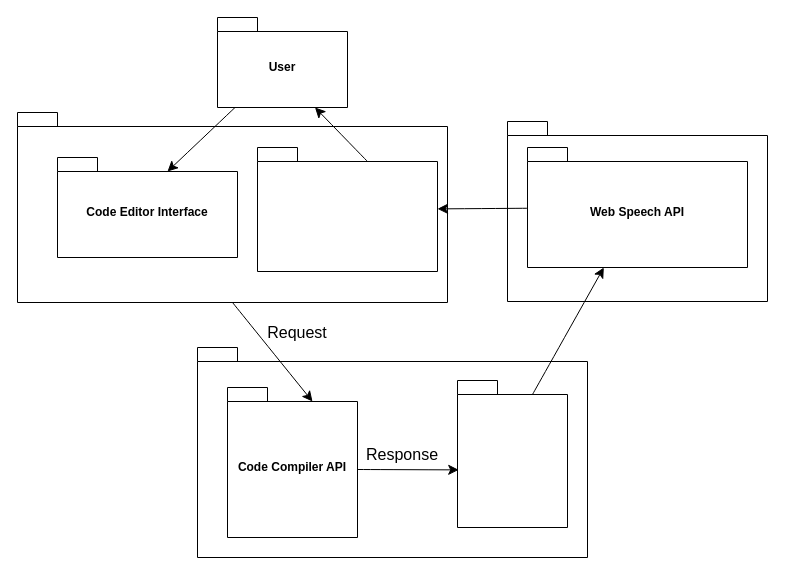
Some shapes in this 785 by 575 pixel diagram are drawn without their labels. Each missing label, with the centre of its shape:
"Code Output, including any error messages" belongs at point (512, 454).
"Sonic Feedback via Screen Reader" belongs at point (347, 209).
